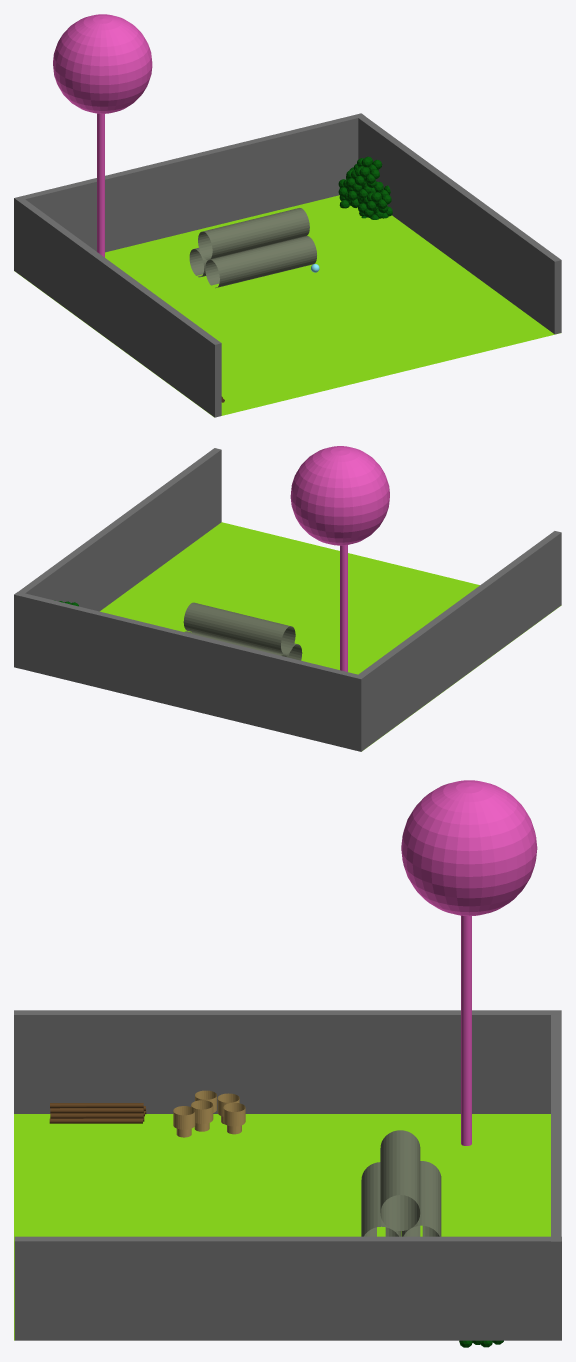
File: Doremon.glb
3 views of the same model, one above another, from view 1: azimuth 30°, elevation 25°; view 2: azimuth 150°, elevation 25°; view 3: azimuth 270°, elevation 25° (orthographic). The views are drawn at different scales.
Visible parts, largest first — view 1: Cube.002, Plane, Cylinder.007, Icosphere.001; view 2: Cube.002, Plane, Cylinder.007; view 3: Cube.002, Plane, Cylinder.007, Cylinder.018.
Part boxes in pixels (bbox=[...]): Cube.002: bbox=[14, 14, 561, 417]; Plane: bbox=[14, 195, 560, 416]; Cylinder.007: bbox=[189, 208, 316, 288]; Icosphere.001: bbox=[338, 156, 392, 219]; Cube.002: bbox=[14, 446, 561, 751]; Plane: bbox=[100, 522, 561, 749]; Cylinder.007: bbox=[183, 602, 302, 660]; Cube.002: bbox=[14, 780, 561, 1340]; Plane: bbox=[14, 1114, 550, 1340]; Cylinder.007: bbox=[173, 1090, 441, 1236]; Cylinder.018: bbox=[49, 1103, 146, 1123].
Size of the model in its own units: 10.01 by 7.57 by 10.01.
